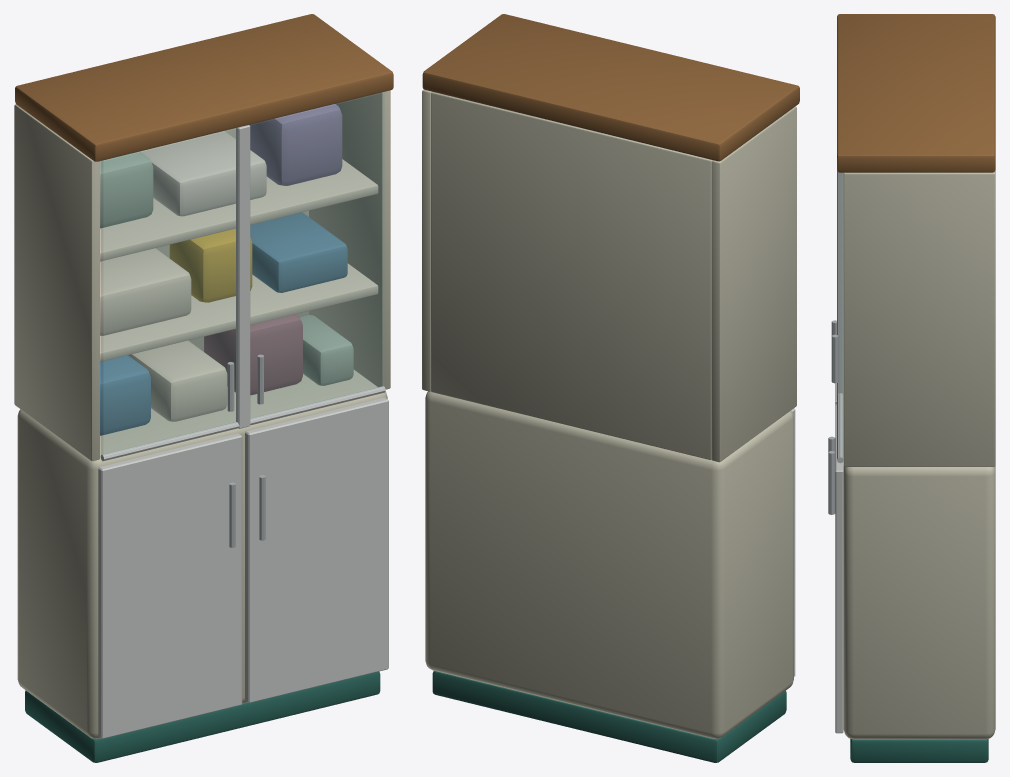
Rendered from cabinet.glb.
The picture shows the model from 3 angles, left to right: view 1: azimuth 30°, elevation 25°; view 2: azimuth 150°, elevation 25°; view 3: azimuth 270°, elevation 25°; orthographic projection. The views are drawn at different scales.
Visible parts, largest first — view 1: cabinet; view 2: cabinet; view 3: cabinet.
Boxes of the visible parts, x1=… form: cabinet: x1=14, y1=14, x2=393, y2=762; cabinet: x1=422, y1=14, x2=799, y2=762; cabinet: x1=828, y1=14, x2=995, y2=762.
Size of the model in its own units: 1 by 2 by 0.495.
